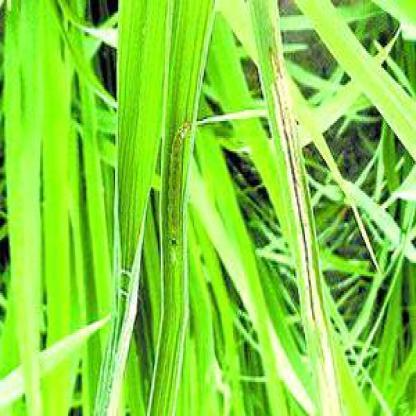leaf-folder: (145, 112, 192, 276)
